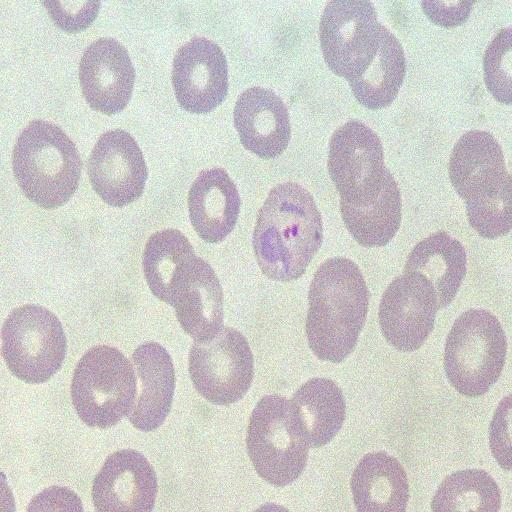Infected: (251, 182, 324, 280)
Uninfected: (12, 118, 83, 207), (246, 394, 313, 484), (70, 343, 139, 428), (157, 260, 225, 342), (342, 22, 406, 108), (443, 310, 505, 395), (187, 327, 254, 404), (1, 305, 67, 383), (402, 233, 467, 311), (319, 0, 383, 78), (327, 119, 385, 204), (342, 171, 404, 248), (379, 272, 438, 352), (88, 128, 148, 205), (79, 35, 136, 113), (448, 128, 507, 203), (172, 36, 230, 111), (143, 229, 202, 302), (129, 343, 177, 431), (186, 167, 242, 242), (232, 86, 291, 157), (289, 377, 345, 449), (92, 450, 156, 510), (309, 257, 366, 323), (349, 452, 409, 509), (309, 311, 361, 363), (467, 177, 511, 238)
